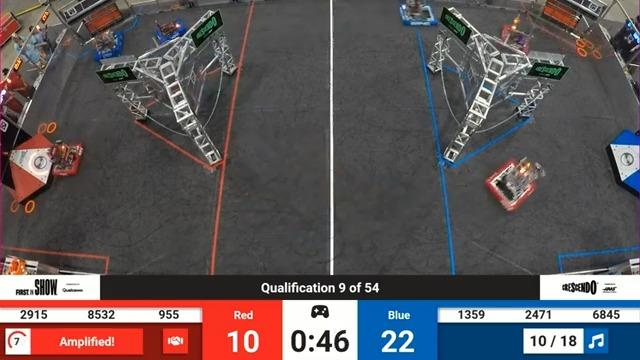robot: (477, 152, 546, 213), (494, 9, 544, 52), (389, 0, 445, 32), (144, 14, 191, 49), (48, 136, 86, 178), (88, 21, 127, 58)
